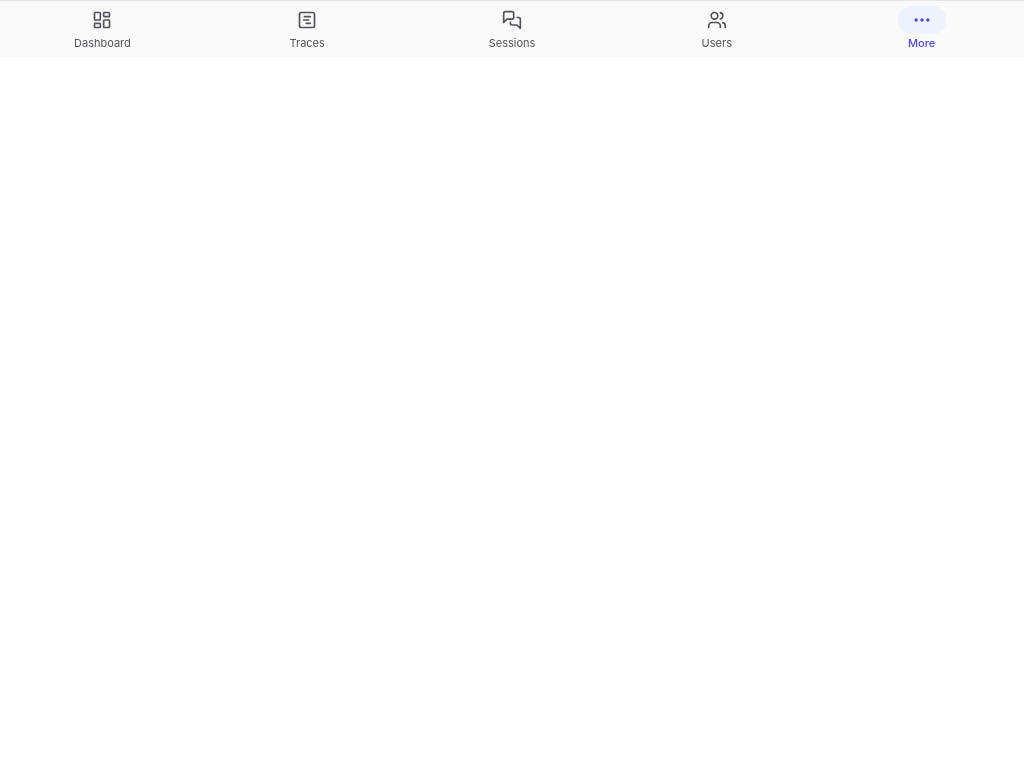
on a phone › lights More, still named More, on a screen it holds, and the screen in the sheet
Click the button "More": (922, 29) x1=819 y1=1 x2=1023 y2=57
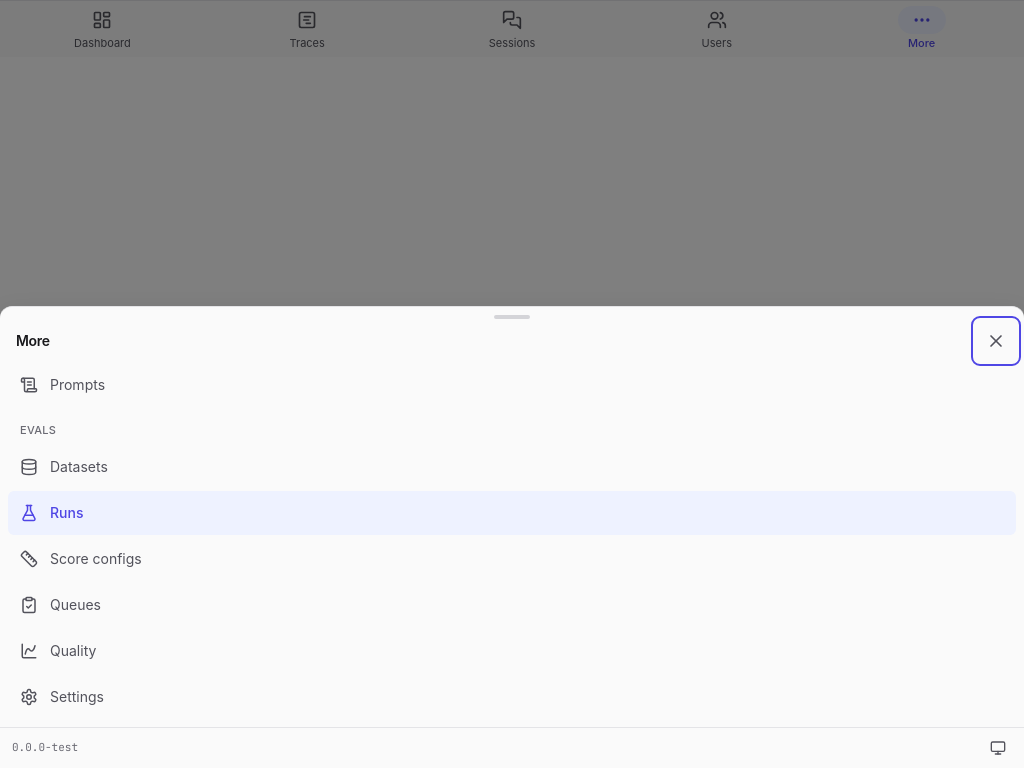
Check: the text "Evals" is shown, box x1=20 y1=423 x2=56 y2=437
